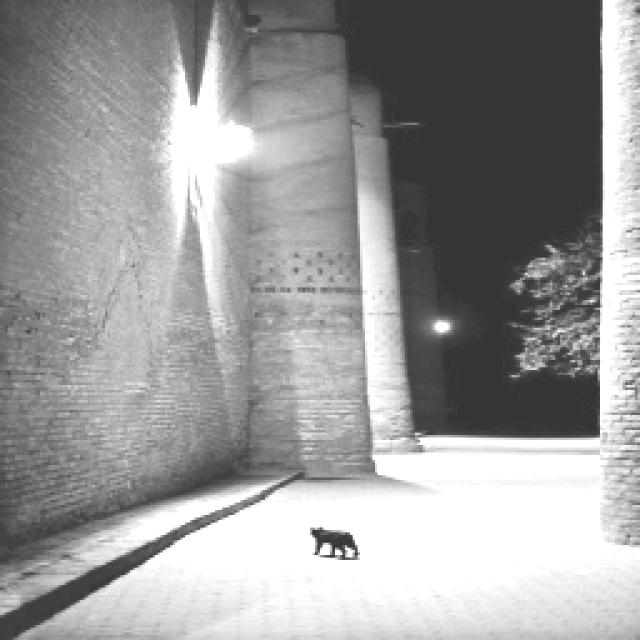cat: (306, 521, 368, 564)
